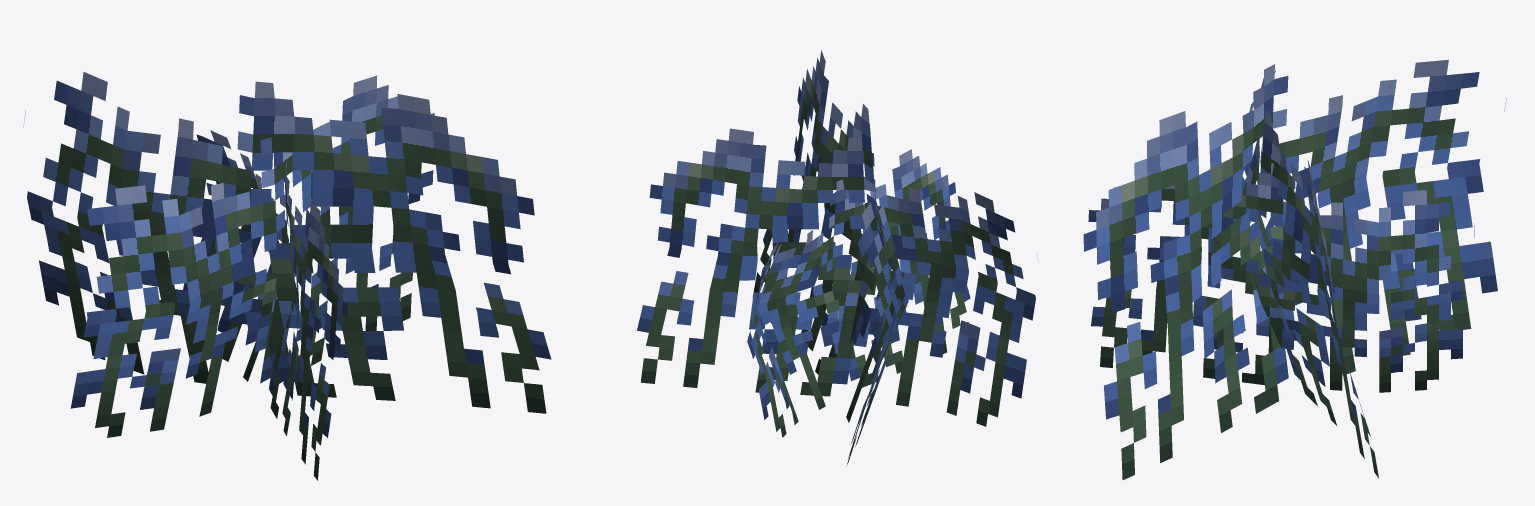
The model's file is Flowers_BlueBells.fbx.
3 renders of one model, left to right at view 1: azimuth 30°, elevation 25°; view 2: azimuth 150°, elevation 25°; view 3: azimuth 270°, elevation 25°, orthographic. The views are drawn at different scales.
Visible parts, largest first — view 1: Flowers_BlueBells; view 2: Flowers_BlueBells; view 3: Flowers_BlueBells.
Part boxes in pixels (box(x1,y1,x2,y2)): Flowers_BlueBells: box(23, 72, 551, 480); Flowers_BlueBells: box(637, 50, 1038, 465); Flowers_BlueBells: box(1083, 59, 1506, 479).
Size of the model in its own units: 1006 by 730 by 934.
1 material, 1 textured.
